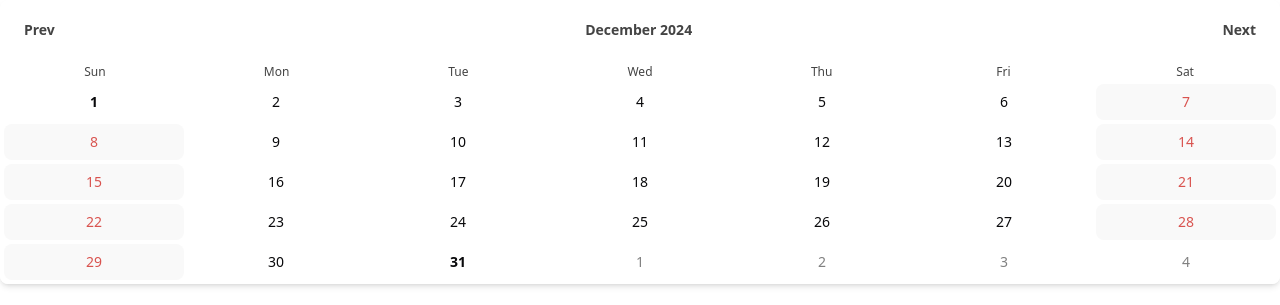
Test: Button – navigation › navigating to December then Next moves to January of next year
The width and height of the screenshot is (1280, 305).
Click the button with test id "next": (1239, 30) x1=1214 y1=16 x2=1264 y2=44
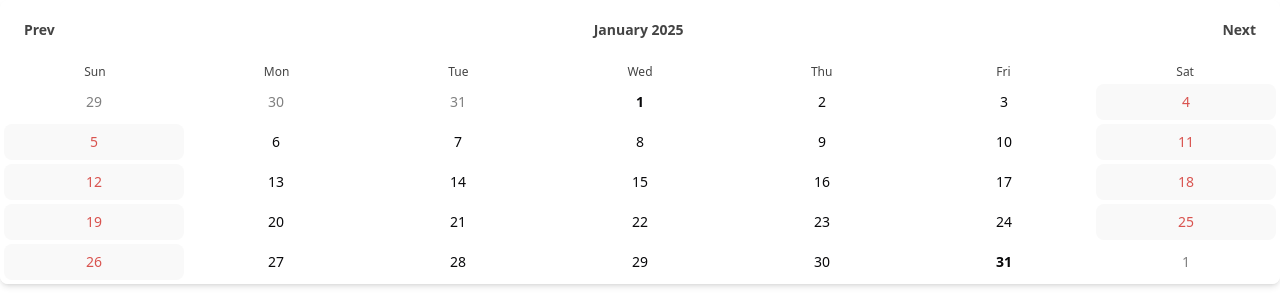
Result: the text "January 2025" is shown at x1=594 y1=20 x2=684 y2=40
